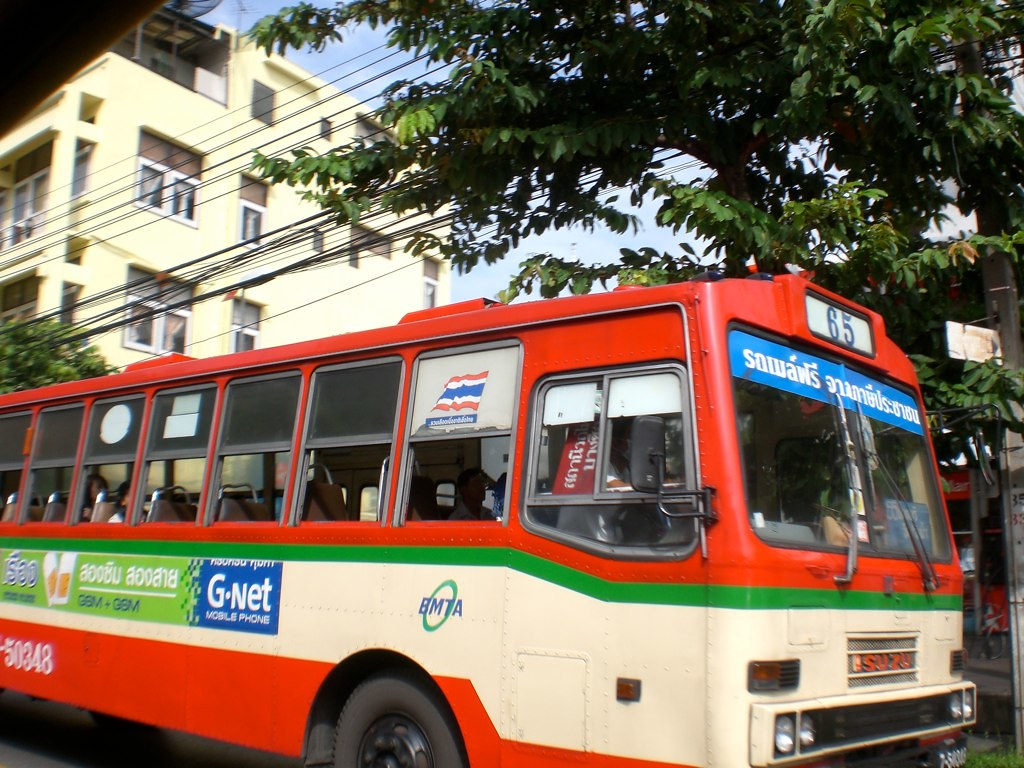bus: (1, 239, 997, 756)
